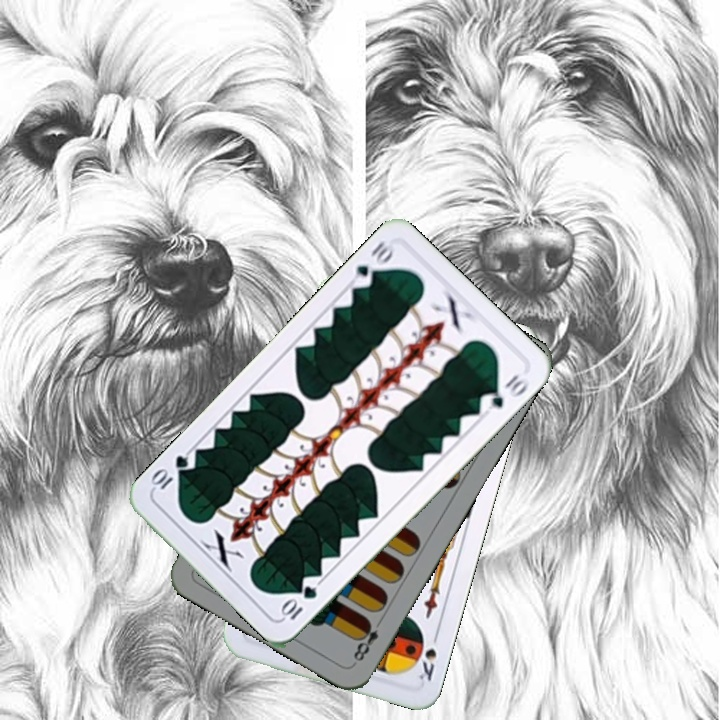E8: (349, 613, 386, 664)
G10: (351, 237, 399, 291), (277, 581, 320, 623)
SK: (411, 627, 442, 684)
